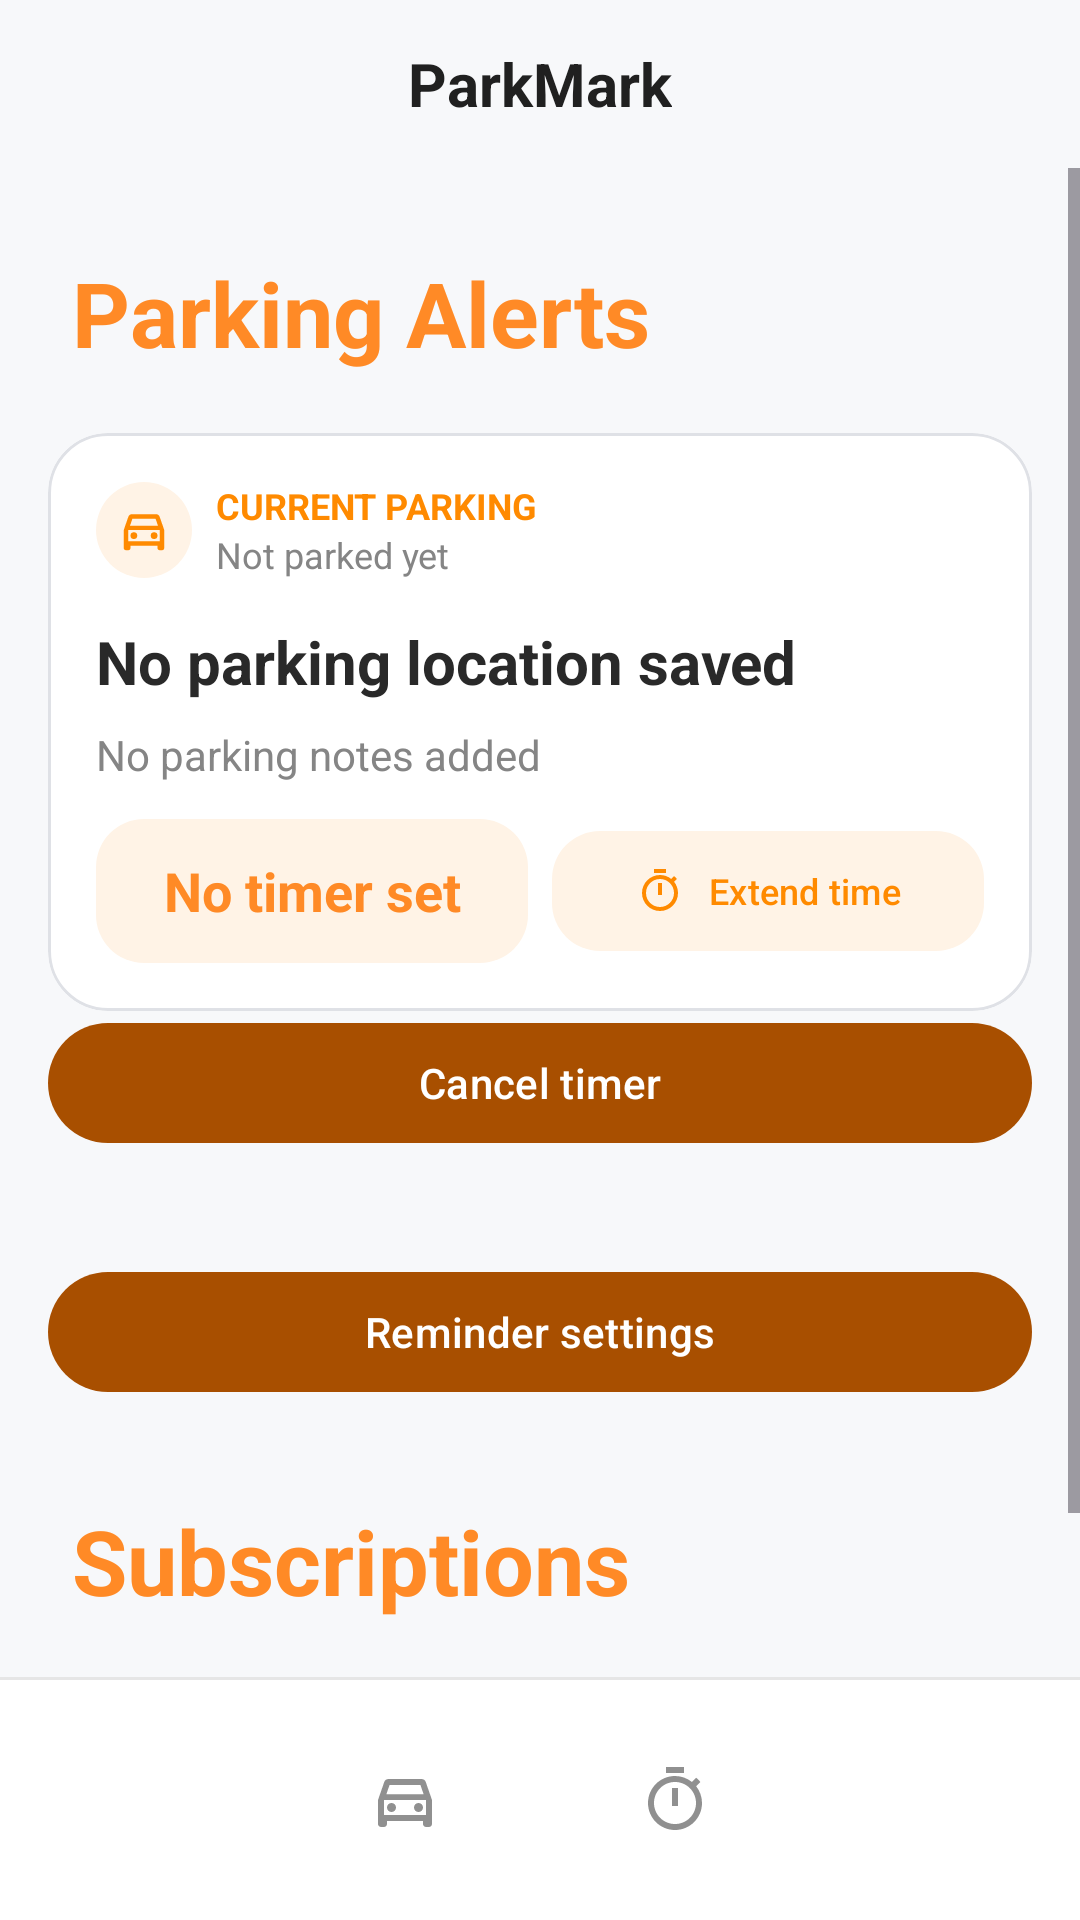

Named icons in this screenshot (1080 x 1920) and their centers, point (x, y):
car: point (144, 530)
